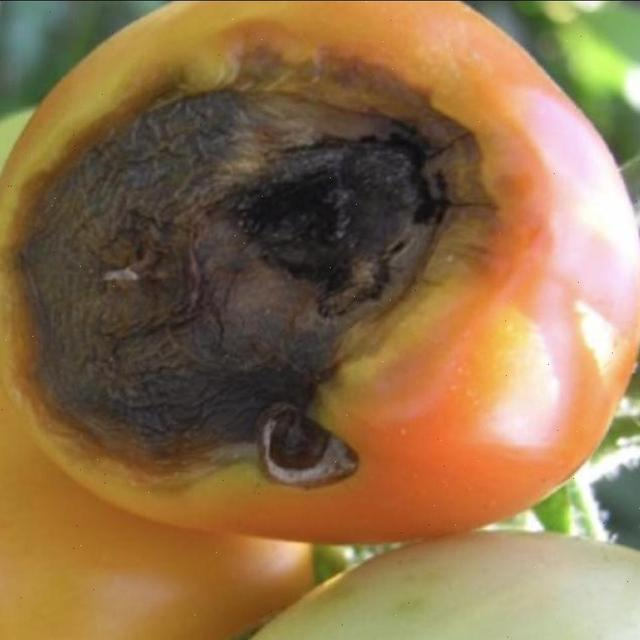Blossom End Rot Fruit: (6, 41, 333, 329)
